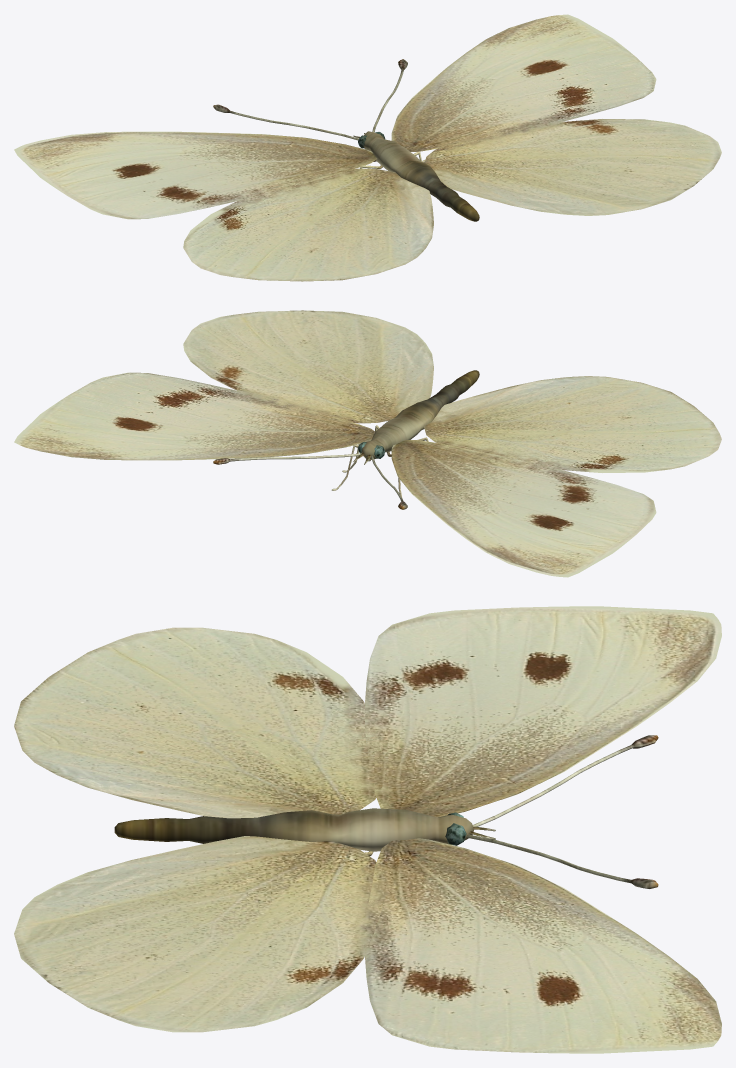
The model's file is Pierisrapae.obj.
3 views of the same model, one above another, from view 1: azimuth 30°, elevation 25°; view 2: azimuth 150°, elevation 25°; view 3: azimuth 270°, elevation 25° (orthographic). The views are drawn at different scales.
Visible parts, largest first — view 1: Pierisrapae.obj; view 2: Pierisrapae.obj; view 3: Pierisrapae.obj.
Boxes of the visible parts, box(x1,y1,x2,y2) form: Pierisrapae.obj: box(14, 14, 721, 281); Pierisrapae.obj: box(14, 310, 721, 577); Pierisrapae.obj: box(14, 606, 721, 1053).
Bounding box in the file's own units: 8.16 × 0.8247 × 5.46.
Materials: 1 (1 with a texture image).
